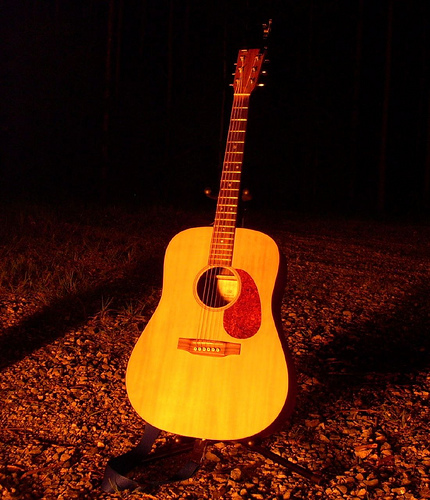guitar: (124, 43, 292, 446)
